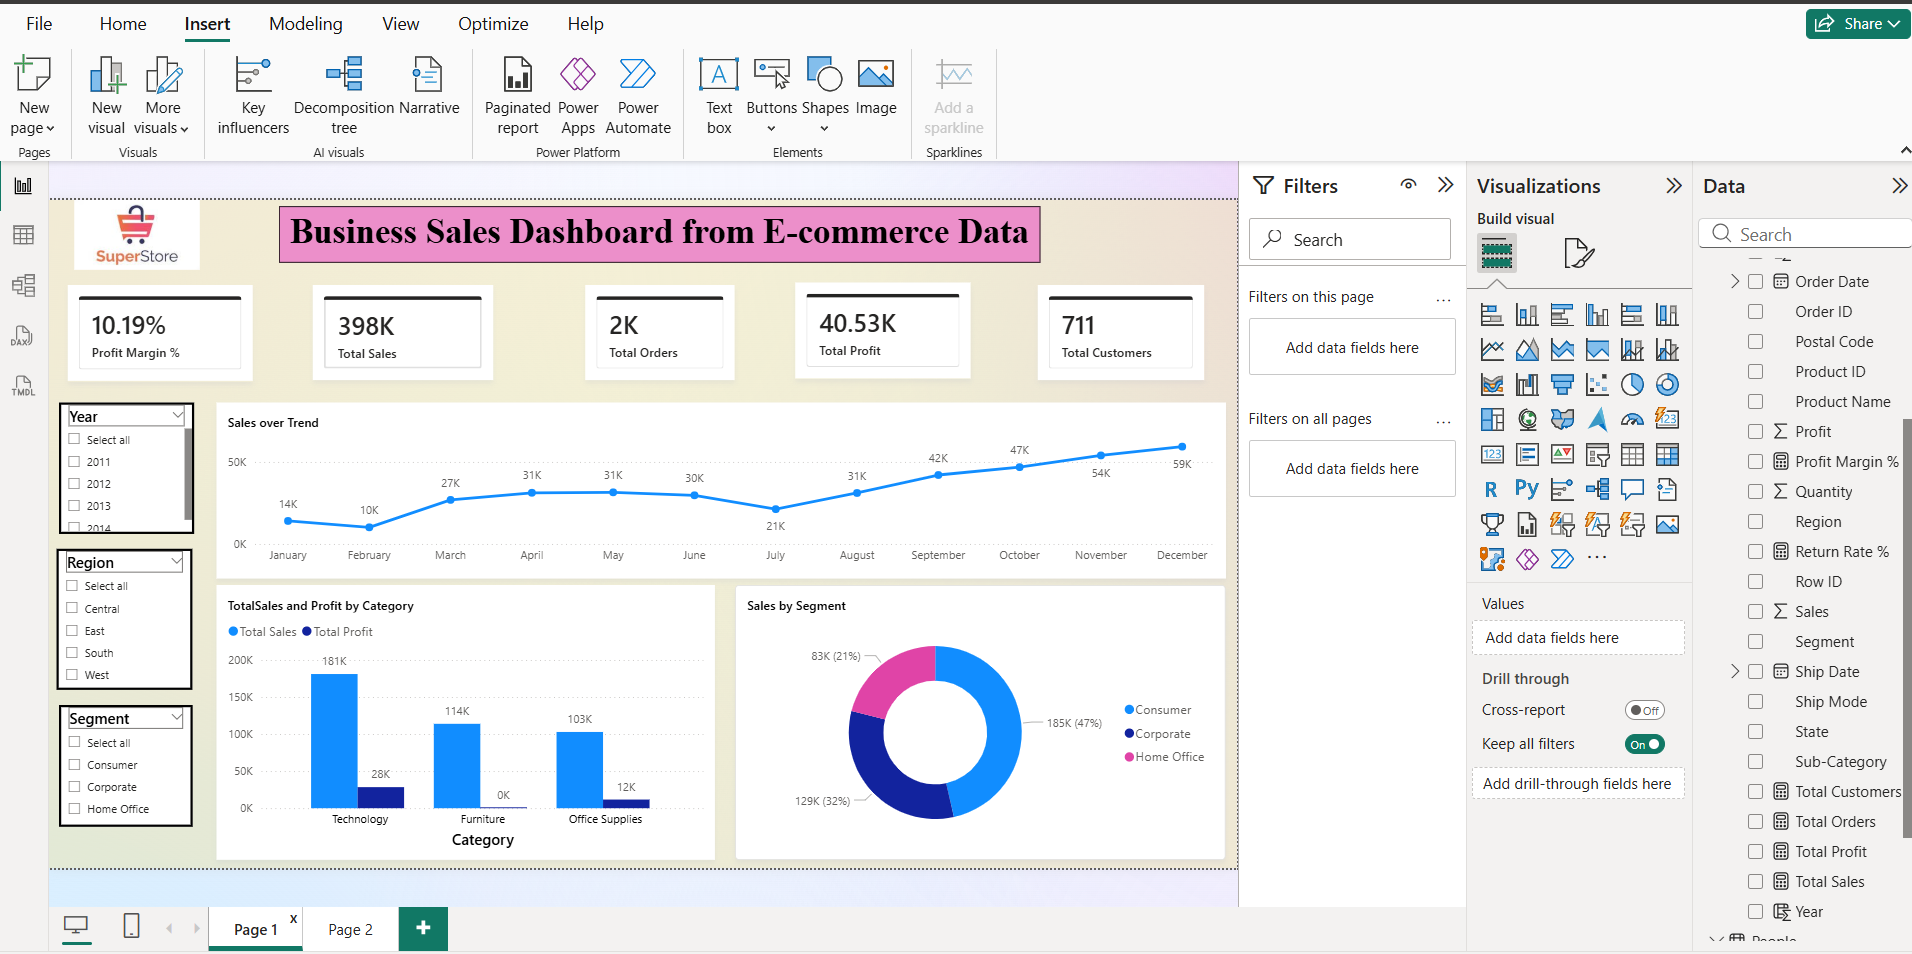

What the dashboard file says about the page in this screenshot:
{"tool":"powerbi","page":{"name":"Page 1","canvas":[1280,720],"ordinal":0},"visuals":[{"type":"slicer","fields":{"Values":["Orders.Year"]},"box":[11,217.7,145.5,141.8],"z":0},{"type":"slicer","fields":{"Values":["Orders.Region"]},"box":[8.6,375.4,146.7,151.6],"z":1000},{"type":"slicer","fields":{"Values":["Orders.Segment"]},"box":[11,544.2,144.3,130.8],"z":2000},{"type":"textbox","box":[247.7,6.7,819.9,60.6],"z":4000},{"type":"image","box":[0,0,189.8,75.4],"z":5000},{"type":"cardVisual","fields":{"Data":["Orders.Total Orders"]},"box":[577.2,91.7,161.4,102.7],"z":6000},{"type":"cardVisual","fields":{"Data":["Orders.Total Profit"]},"box":[803.4,89.3,189.5,103.9],"z":7000},{"type":"cardVisual","fields":{"Data":["Orders.Total Sales"]},"box":[283.7,91.7,194.4,102.7],"z":8000},{"type":"cardVisual","fields":{"Data":["Orders.Profit Margin %"]},"box":[19.6,91.7,199.3,103.9],"z":9000},{"type":"cardVisual","fields":{"Data":["Orders.Total Customers"]},"box":[1065.1,91.7,179.8,102.7],"z":10000},{"type":"lineChart","title":"Sales over Trend","fields":{"Category":["Orders.Month"],"Y":["Orders.Total Sales"]},"box":[179.8,217.7,1087.1,189.5],"z":11000},{"type":"clusteredColumnChart","title":"TotalSales and Profit by Category","fields":{"Category":["Orders.Category"],"Y":["Orders.Total Sales","Orders.Total Profit"]},"box":[179.8,414.5,536.8,295.9],"z":12000},{"type":"donutChart","title":"Sales by Segment","fields":{"Category":["Orders.Segment"],"Y":["Orders.Total Sales"]},"box":[738.6,414.5,528.3,295.9],"z":13000}]}

Visuals, with their boxes on the page's 1280x720 design canvas (x1, y1, x2, y2). These are canvas units, not pixel positions in the 1912x954 screenshot, which may show the page scaled, cropped or inside an application window:
slicer - Orders.Year: left=11, top=218, right=156, bottom=360
slicer - Orders.Region: left=9, top=375, right=155, bottom=527
slicer - Orders.Segment: left=11, top=544, right=155, bottom=675
textbox: left=248, top=7, right=1068, bottom=67
image: left=0, top=0, right=190, bottom=75
cardVisual - Orders.Total Orders: left=577, top=92, right=739, bottom=194
cardVisual - Orders.Total Profit: left=803, top=89, right=993, bottom=193
cardVisual - Orders.Total Sales: left=284, top=92, right=478, bottom=194
cardVisual - Orders.Profit Margin %: left=20, top=92, right=219, bottom=196
cardVisual - Orders.Total Customers: left=1065, top=92, right=1245, bottom=194
"Sales over Trend" lineChart: left=180, top=218, right=1267, bottom=407
"TotalSales and Profit by Category" clusteredColumnChart: left=180, top=414, right=717, bottom=710
"Sales by Segment" donutChart: left=739, top=414, right=1267, bottom=710
